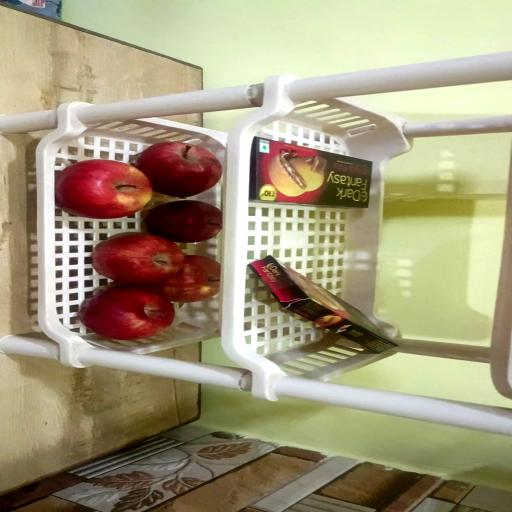Apple: (54, 162, 152, 220), (79, 286, 173, 340), (91, 235, 183, 289), (134, 141, 222, 195), (143, 202, 221, 244), (158, 257, 222, 303)
Choco Fills: (249, 258, 397, 348), (251, 137, 372, 204)
